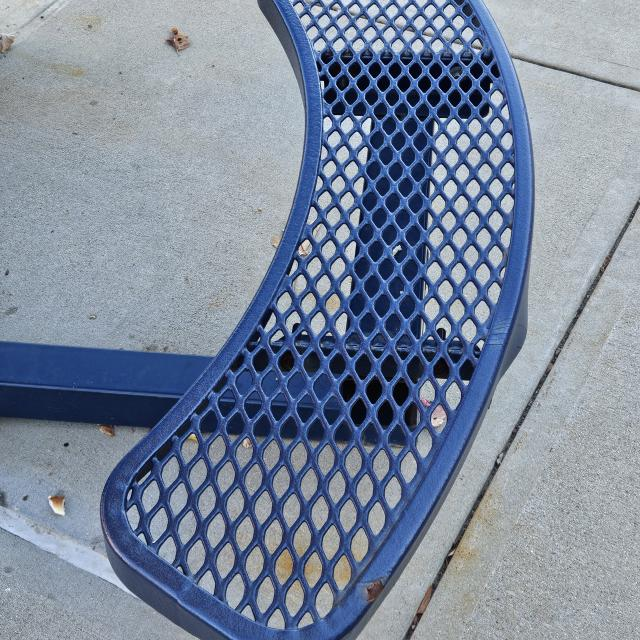Filiform Corrosion: (357, 554, 401, 612)
